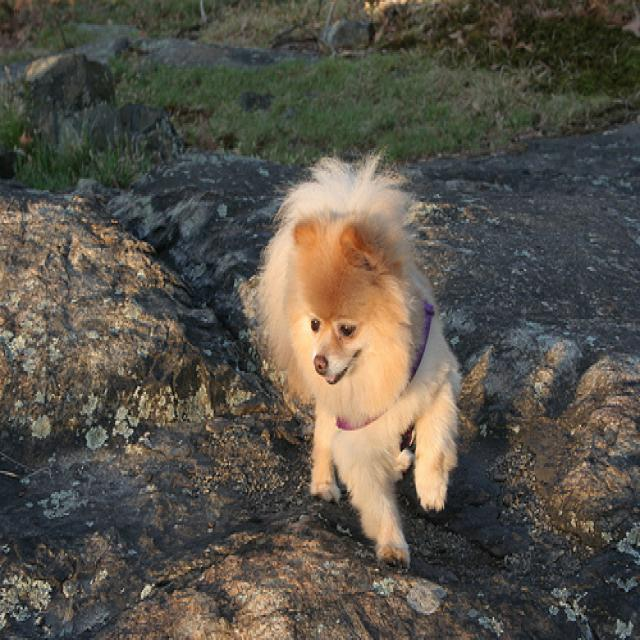dog-pomeranian: (248, 142, 471, 582)
